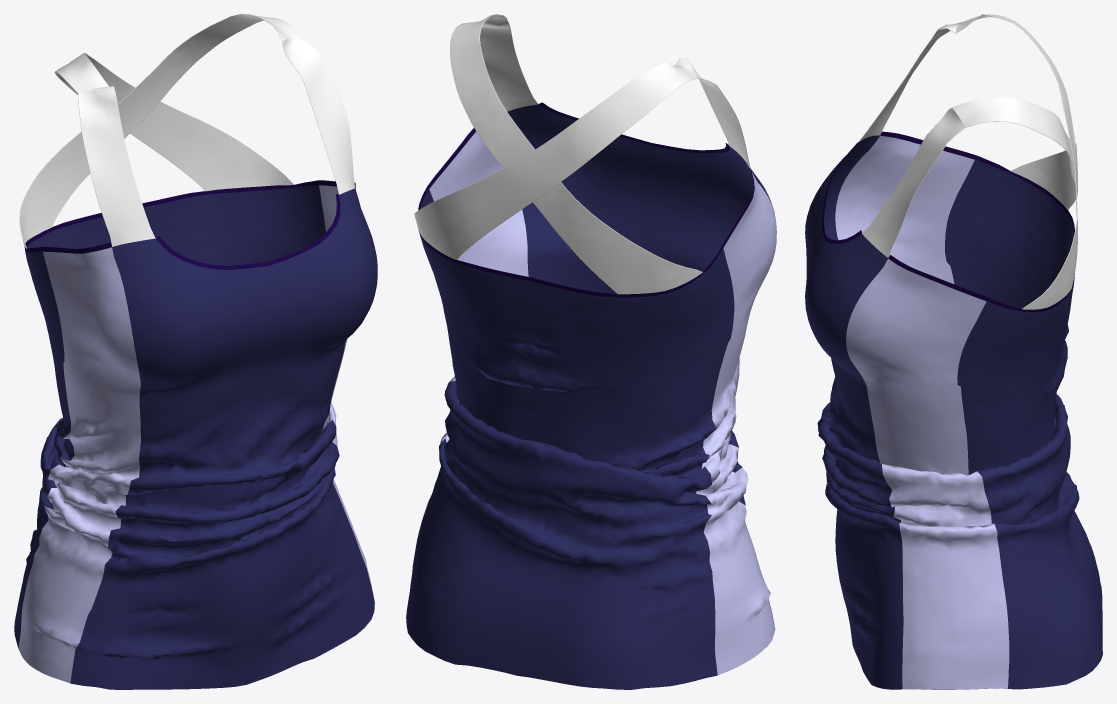
Rendered from 3Angle.fbx.
3 views of the same model, side by side, from view 1: azimuth 30°, elevation 25°; view 2: azimuth 150°, elevation 25°; view 3: azimuth 270°, elevation 25° (orthographic). The views are drawn at different scales.
Visible parts, largest first — view 1: 3Angle; view 2: 3Angle; view 3: 3Angle.
Boxes of the visible parts, x1,y1,x2,y2 form: 3Angle: (14, 14, 377, 689); 3Angle: (406, 14, 776, 689); 3Angle: (805, 14, 1102, 689).
Bounding box in the file's own units: 32.36 × 56.43 × 26.08.
